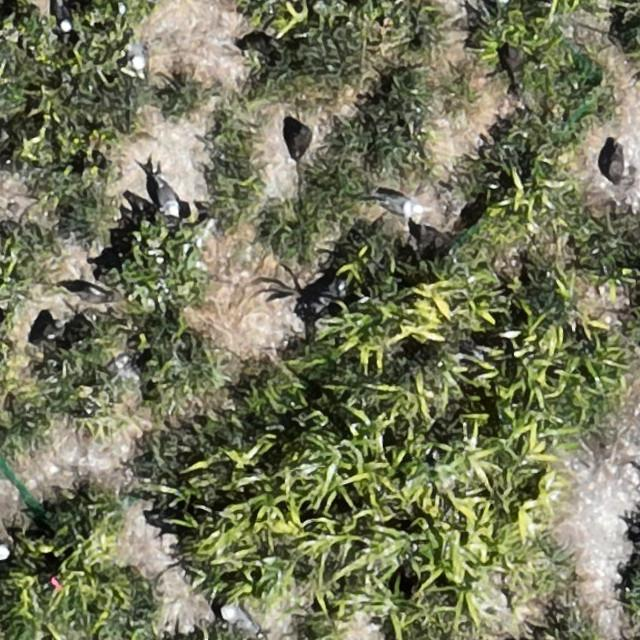umineko: (379, 188, 419, 214), (156, 178, 178, 215), (223, 606, 254, 630), (56, 2, 72, 32), (129, 44, 146, 69), (0, 540, 8, 562)
